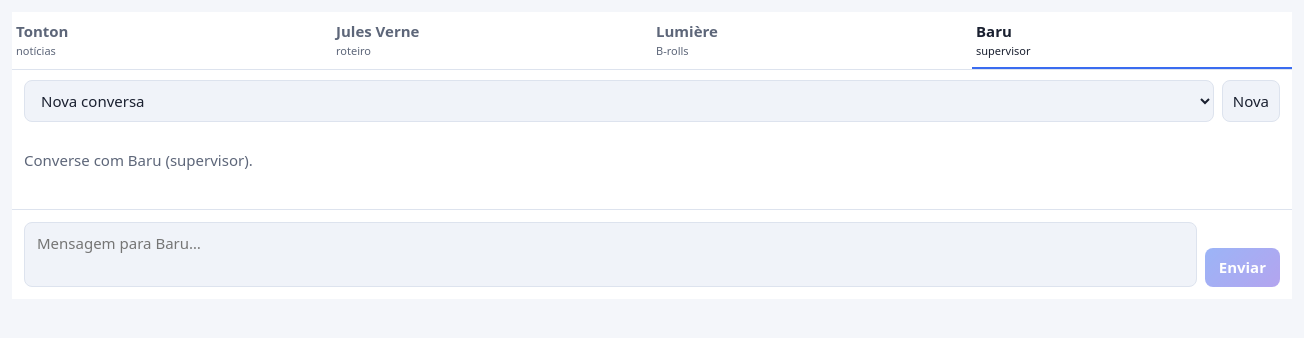
Test case: mostra chips das ações executadas e não reaplica ações de conversas antigas
Select "t" in the dropdown named "Conversas anteriores": (619, 101) 24,80 -> 1214,122
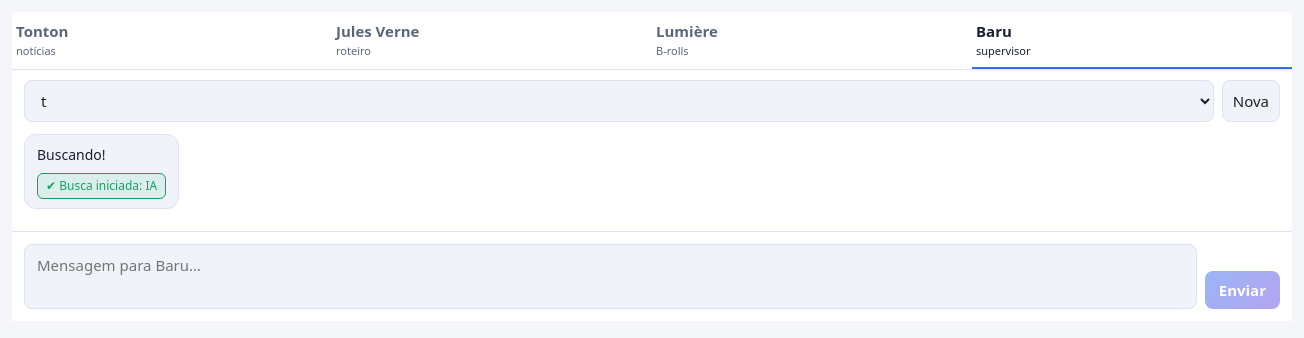
Result: the list item "✔ Busca iniciada: IA" is shown at 37,173 -> 166,199
